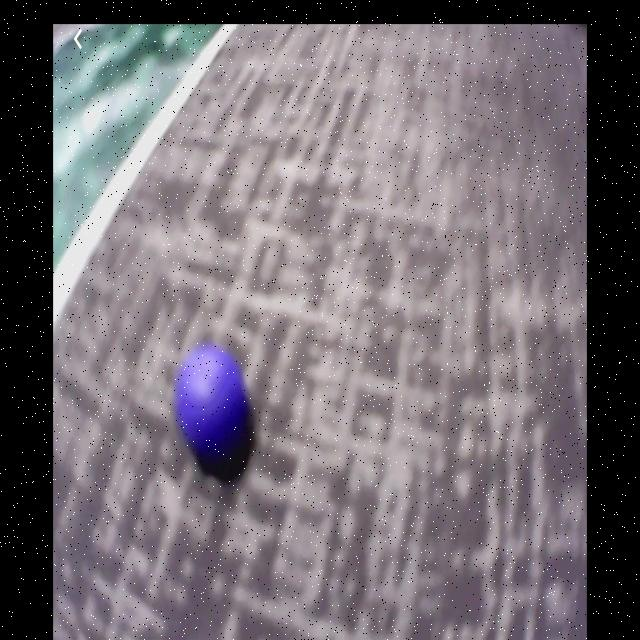ball: (177, 346, 248, 462)
